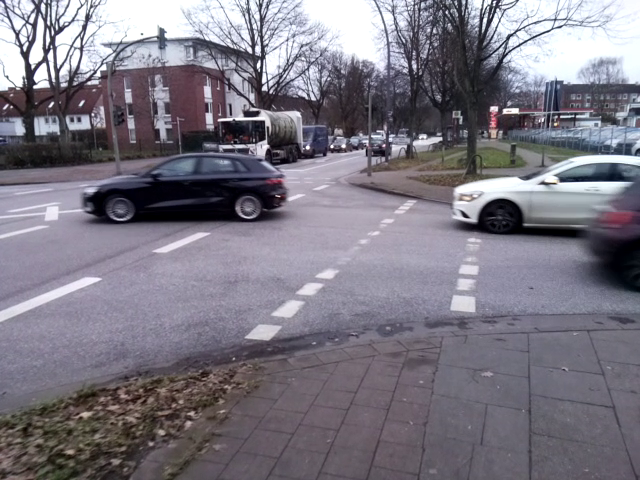car: (73, 147, 286, 222)
